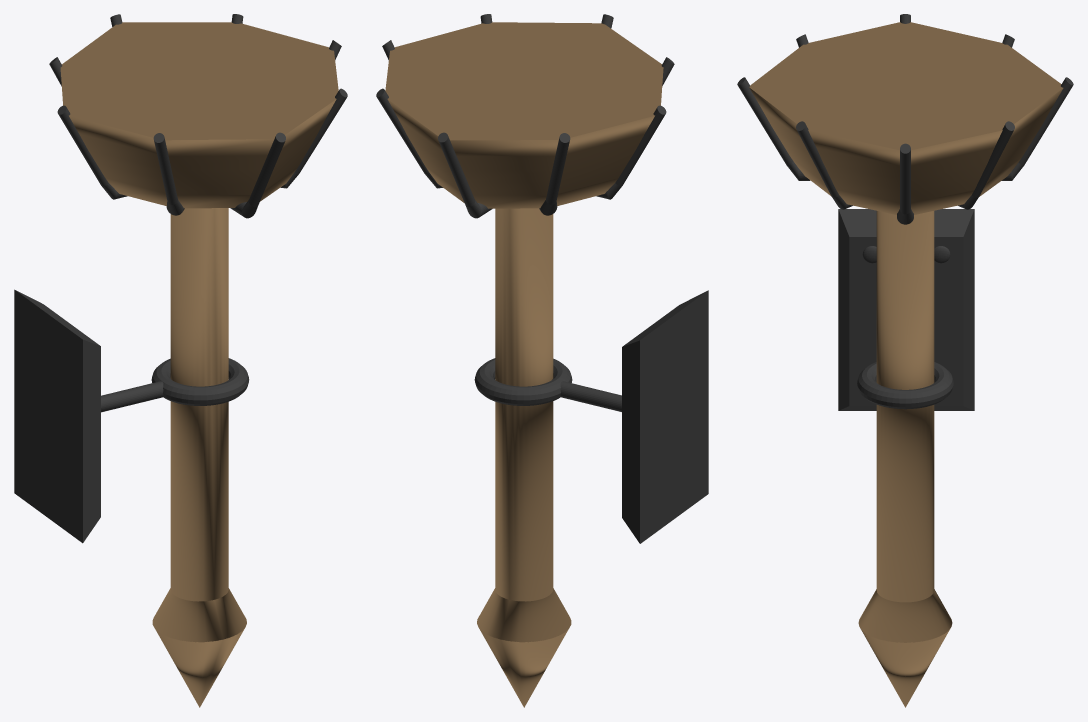
Rendered from torch.fbx.
The picture shows the model from 3 angles, left to right: view 1: azimuth 30°, elevation 25°; view 2: azimuth 150°, elevation 25°; view 3: azimuth 270°, elevation 25°; orthographic projection.
Visible parts, largest first — view 1: Wall Mount; view 2: Wall Mount; view 3: Wall Mount.
Boxes of the visible parts, x1,y1,x2,y2 form: Wall Mount: [14, 14, 347, 707]; Wall Mount: [376, 14, 708, 707]; Wall Mount: [737, 14, 1073, 707].
Size of the model in its own units: 1157 by 2405 by 1165.
